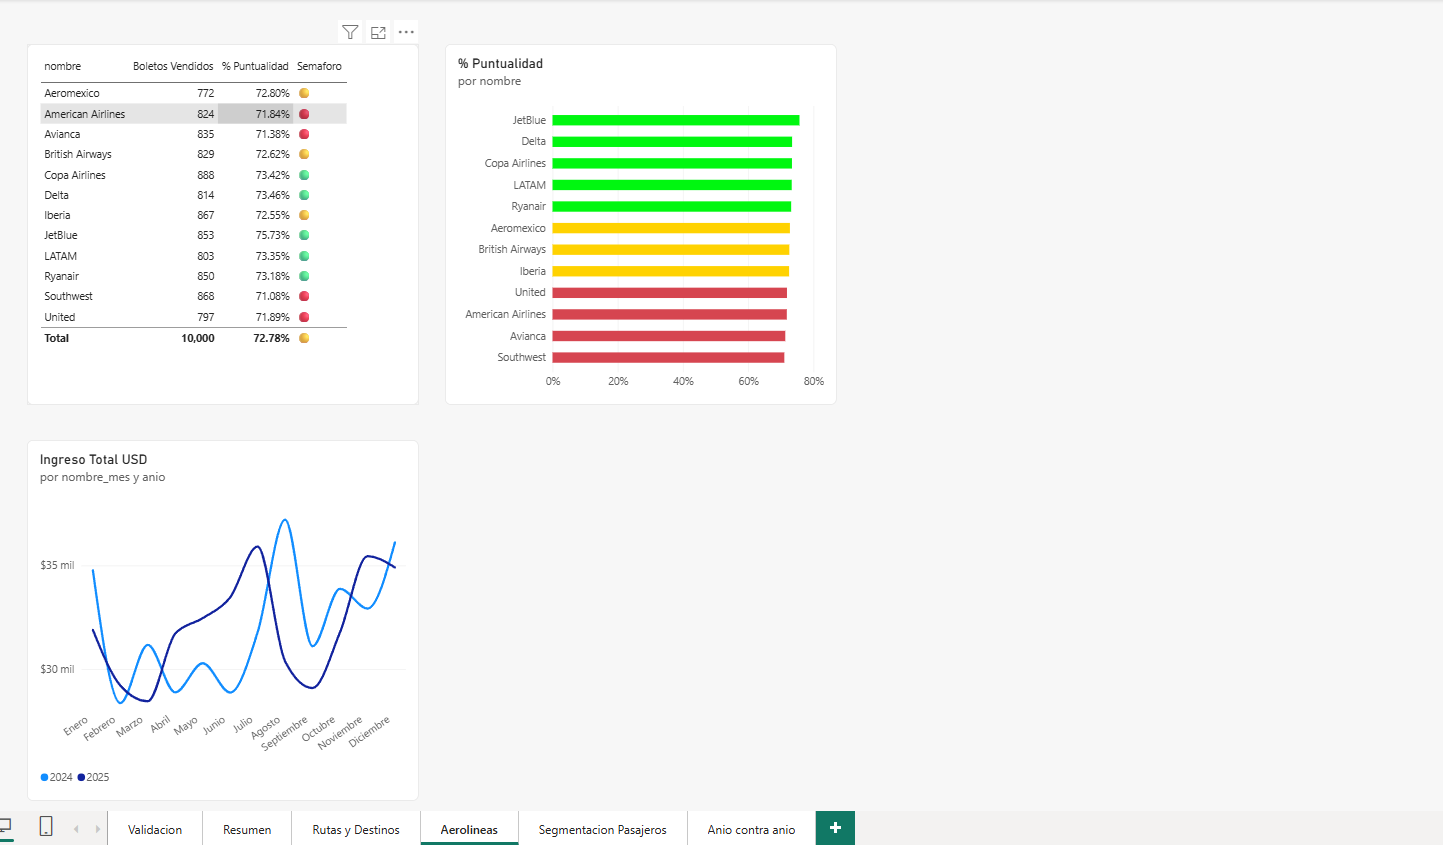

This screenshot's page, from the dashboard's own definition file:
{"tool":"powerbi","page":{"name":"Aerolineas","canvas":[1920,1080],"ordinal":3},"visuals":[{"type":"tableEx","fields":{"Values":["Dim_Aerolinea.nombre","Hecho_Boleto.Boletos Vendidos","Hecho_Boleto.% Puntualidad","Hecho_Boleto.Semaforo"]},"box":[36.2,60,521.2,480],"z":0},{"type":"clusteredBarChart","fields":{"Category":["Dim_Aerolinea.nombre"],"Y":["Hecho_Boleto.% Puntualidad"]},"box":[591.2,60,521,480],"z":1},{"type":"lineChart","fields":{"Category":["Dim_Fecha_Salida.nombre_mes"],"Series":["Dim_Fecha_Salida.anio"],"Y":["Hecho_Boleto.Ingreso Total USD"]},"box":[36.2,586.2,521,480],"z":2}]}

Visuals, with their boxes on the page's 1920x1080 design canvas (x1, y1, x2, y2). These are canvas units, not pixel positions in the 1443x845 screenshot, which may show the page scaled, cropped or inside an application window:
tableEx - Dim_Aerolinea.nombre x Hecho_Boleto.Boletos Vendidos: (left=36, top=60, right=557, bottom=540)
clusteredBarChart - Dim_Aerolinea.nombre x Hecho_Boleto.% Puntualidad: (left=591, top=60, right=1112, bottom=540)
lineChart - Dim_Fecha_Salida.nombre_mes x Dim_Fecha_Salida.anio: (left=36, top=586, right=557, bottom=1066)
